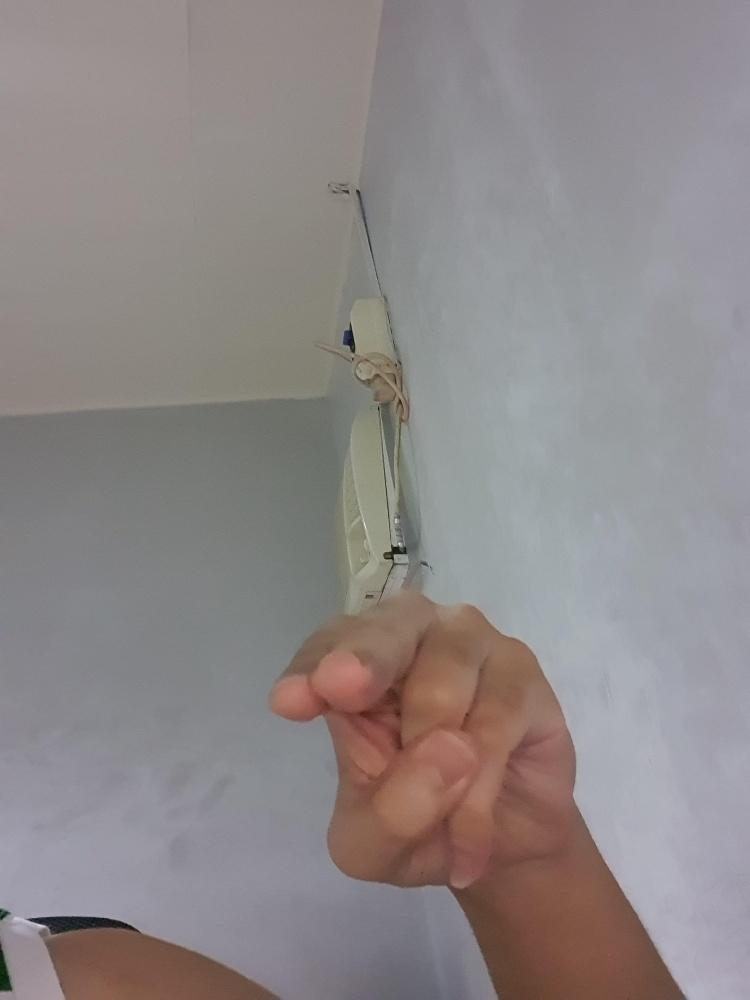n: (264, 581, 580, 894)
